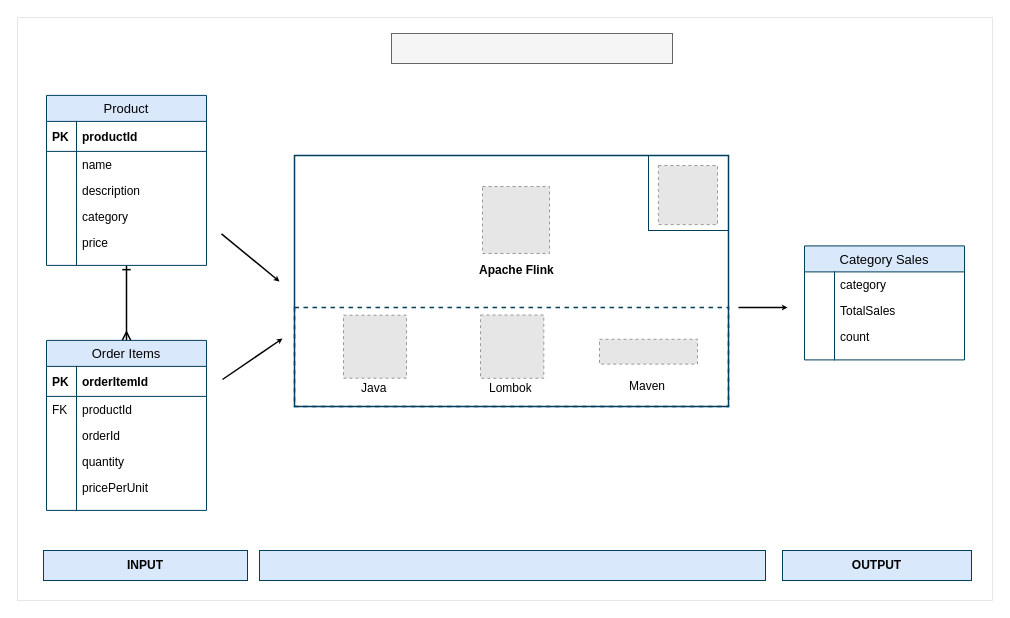
The diagram is 1010 pixels wide and 618 high, and some of its shapes have lost their labels. Grey dashed boxes stand in for pictures. Here are the shapes that lost their labels. From the top down, the centre of each, then its label:
At pixel 531 48: "Retail Analytics with Apache Flink".
At pixel 512 565: "ETL JOB".
